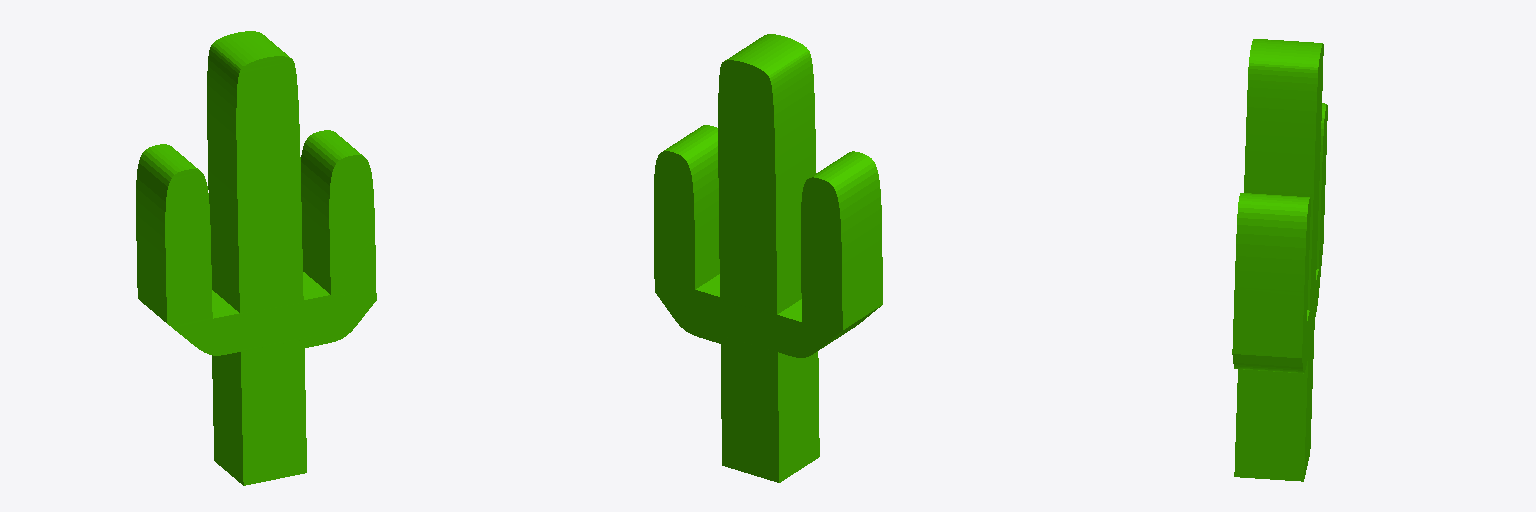
The model's file is cactus.mtl.obj.
3 views of the same model, side by side, from view 1: azimuth 30°, elevation 25°; view 2: azimuth 150°, elevation 25°; view 3: azimuth 270°, elevation 25° (orthographic).
Visible parts, largest first — view 1: Curve; view 2: Curve; view 3: Curve.
Boxes of the visible parts, box(x1,y1,x2,y2) form: Curve: box(136, 31, 376, 485); Curve: box(654, 34, 882, 482); Curve: box(1232, 39, 1327, 481).
Size of the model in its own units: 0.0395 by 0.0774 by 0.016.